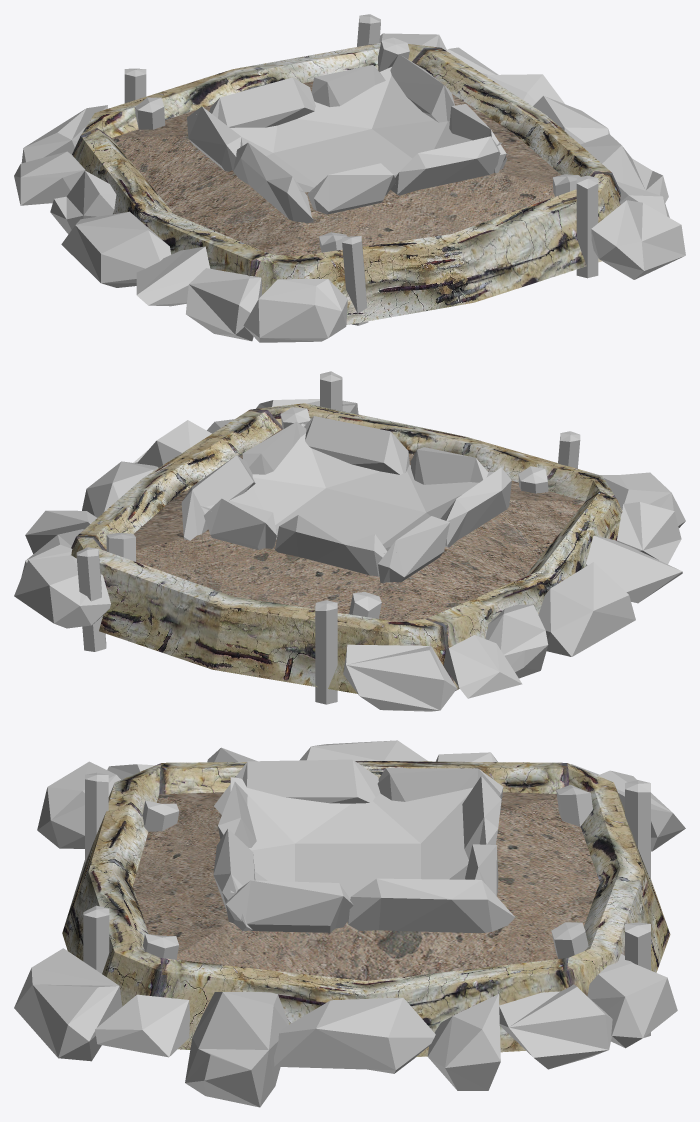
File: Fireplace_1_LOD2.fbx
3 views of the same model, one above another, from view 1: azimuth 30°, elevation 25°; view 2: azimuth 150°, elevation 25°; view 3: azimuth 270°, elevation 25° (orthographic). The views are drawn at different scales.
Parts seen in each view (by area): view 1: Cube_2, Cube, Cube_2_2, Cylinder_8; view 2: Cube_2, Cube, Cube_2_2, Cylinder_8; view 3: Cube_2, Cube, Cube_2_2, Cylinder_8.
Boxes of the visible parts, left/top/right/bottom form: Cube_2: left=14, top=33, right=685, bottom=342; Cube: left=72, top=42, right=620, bottom=324; Cube_2_2: left=112, top=71, right=560, bottom=256; Cylinder_8: left=124, top=14, right=598, bottom=325; Cube_2: left=14, top=399, right=685, bottom=711; Cube: left=71, top=403, right=622, bottom=693; Cube_2_2: left=134, top=429, right=584, bottom=621; Cylinder_8: left=76, top=371, right=580, bottom=704; Cube_2: left=14, top=740, right=685, bottom=1107; Cube: left=62, top=760, right=670, bottom=1056; Cube_2_2: left=133, top=792, right=599, bottom=980; Cylinder_8: left=83, top=772, right=650, bottom=1037.
Size of the model in its own units: 272 by 253 by 61.6.
